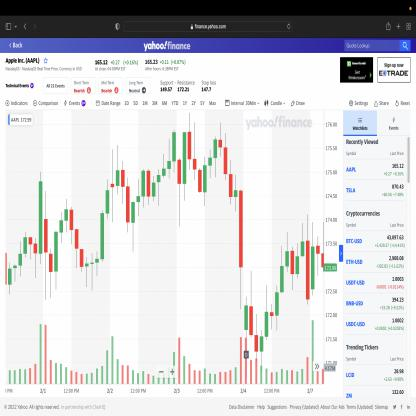Bearish: 3 Black Crows: (69, 204, 84, 276)
Bearish: Tweezer Top: (182, 110, 192, 204), (141, 167, 151, 210)
